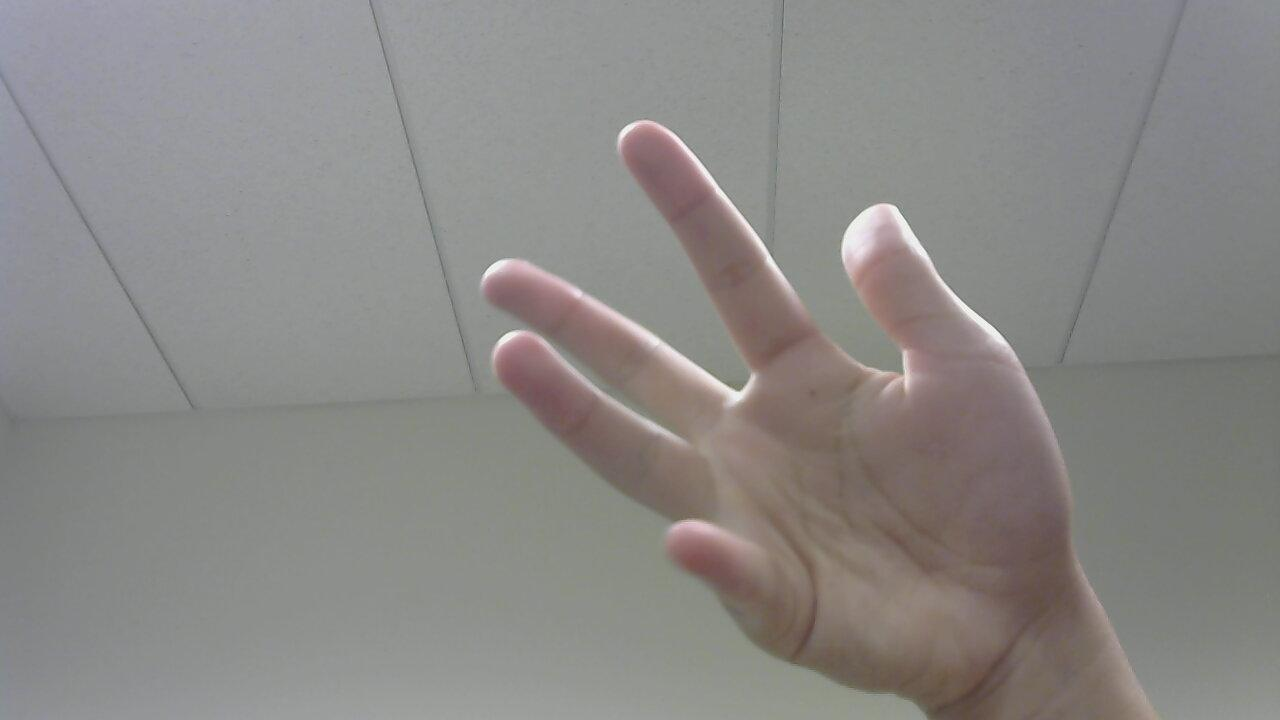hands: (470, 97, 1088, 710)
